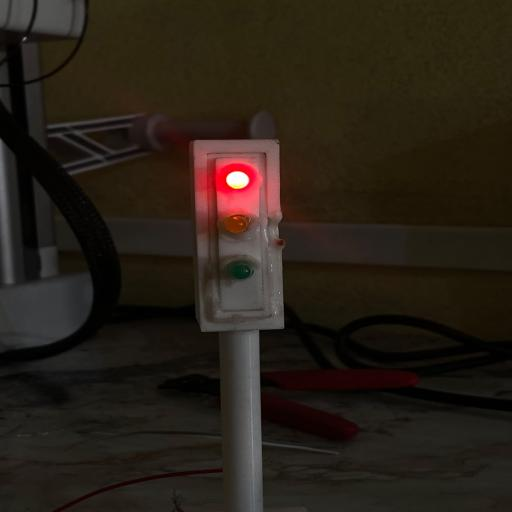Red Light: (226, 171, 249, 189)
